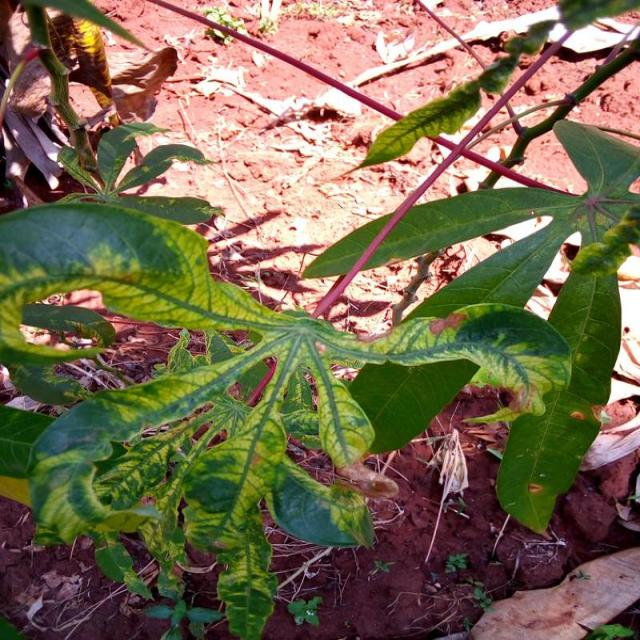cassava leaf: (494, 208, 624, 534)
